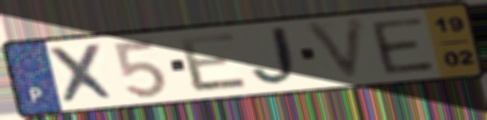5: (110, 36, 170, 99)
E: (175, 30, 252, 94), (366, 15, 439, 76)
J: (250, 24, 308, 90)
V: (301, 15, 369, 85)
X: (44, 41, 122, 107)
